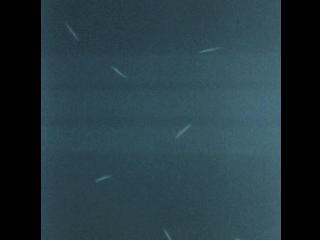scratch: (167, 116, 197, 148), (60, 15, 84, 46), (194, 40, 227, 58), (106, 62, 131, 81), (90, 168, 115, 187), (156, 223, 179, 240)
